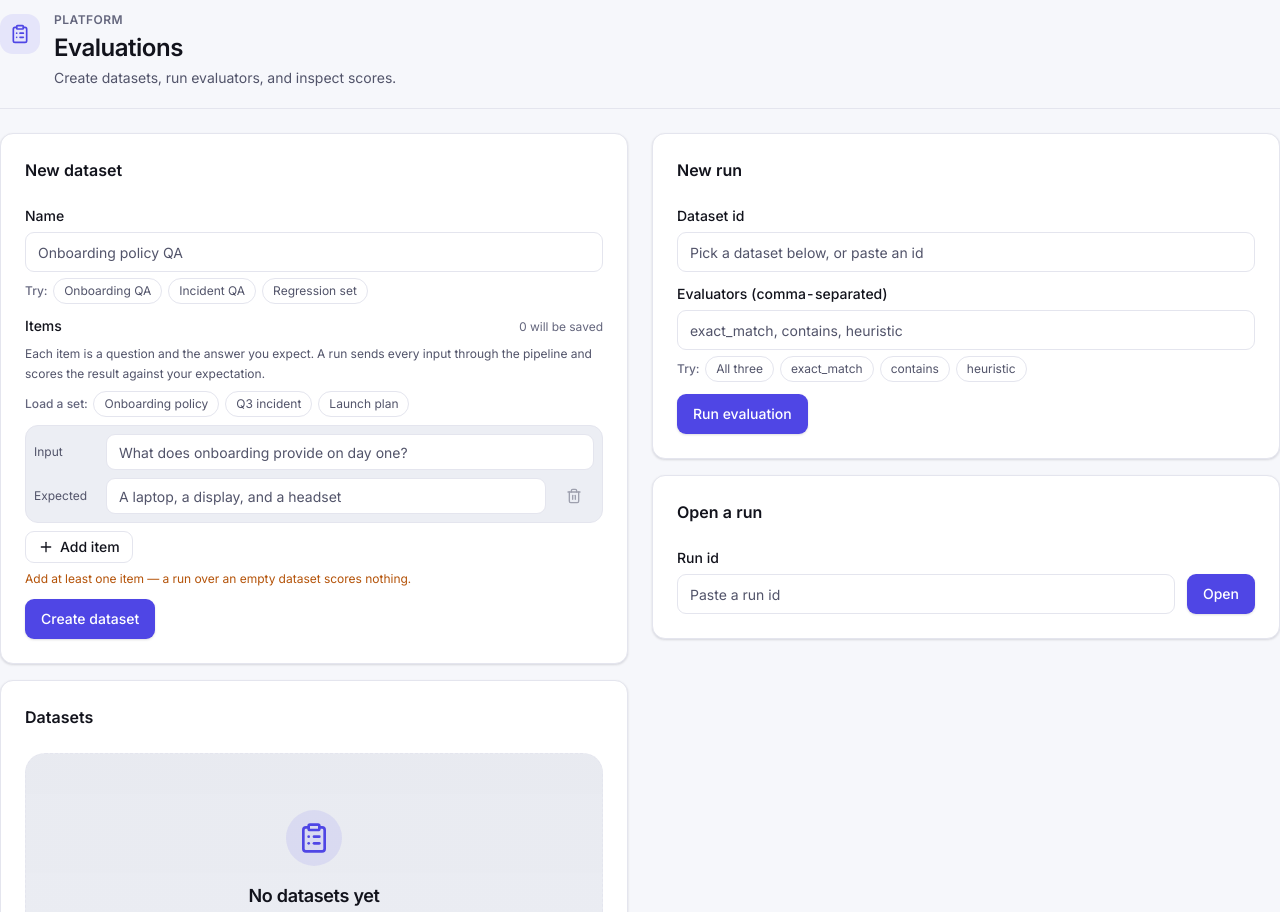
Test: EvaluationsView (MSW) › creates a dataset and shows the returned id (14.1)
Step 1. Type "regression" into the field with test id "dataset-name" → (314, 252), box [25,232,603,272]
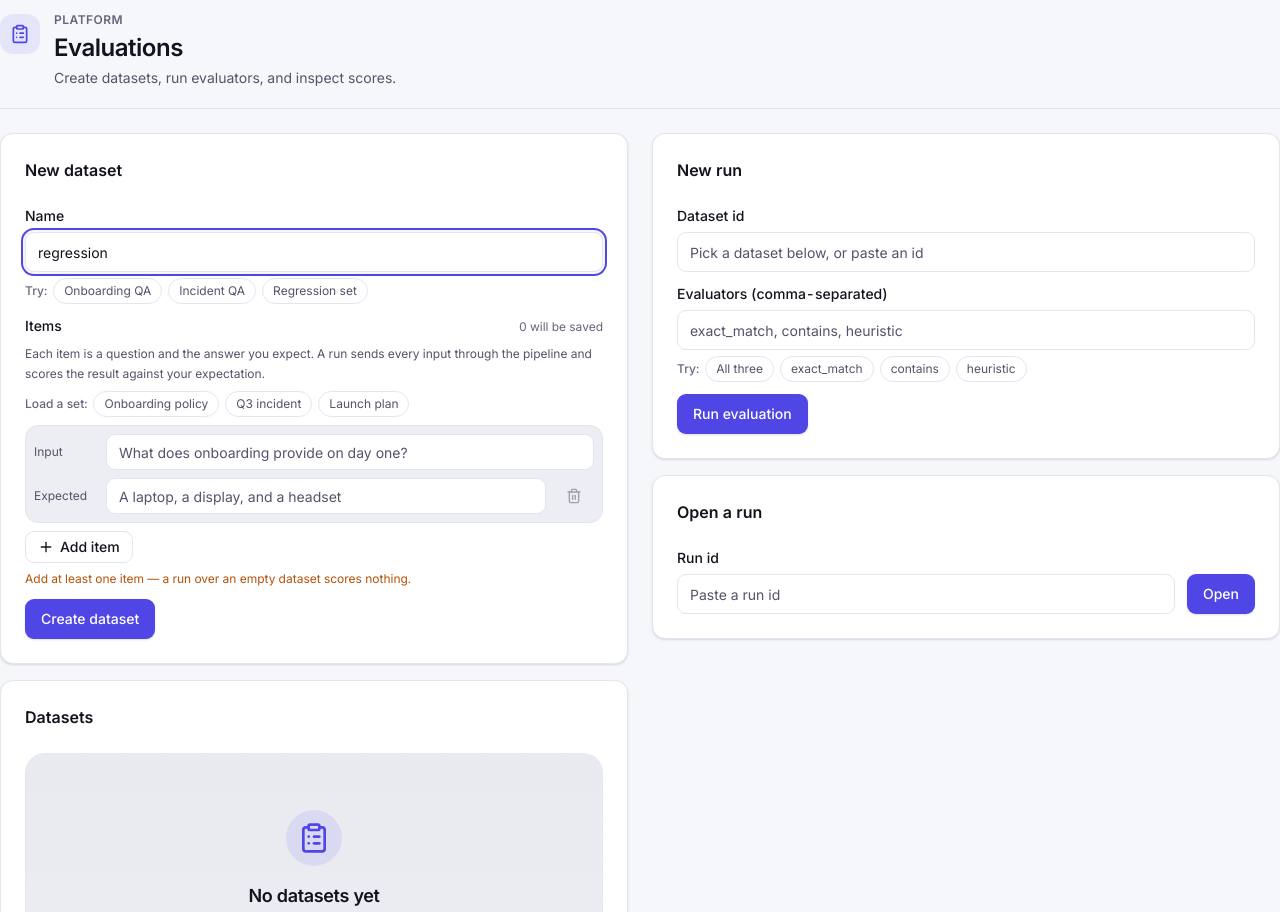
Step 2. Click the button with test id "create-dataset-submit" → (90, 619), box [25,599,155,639]
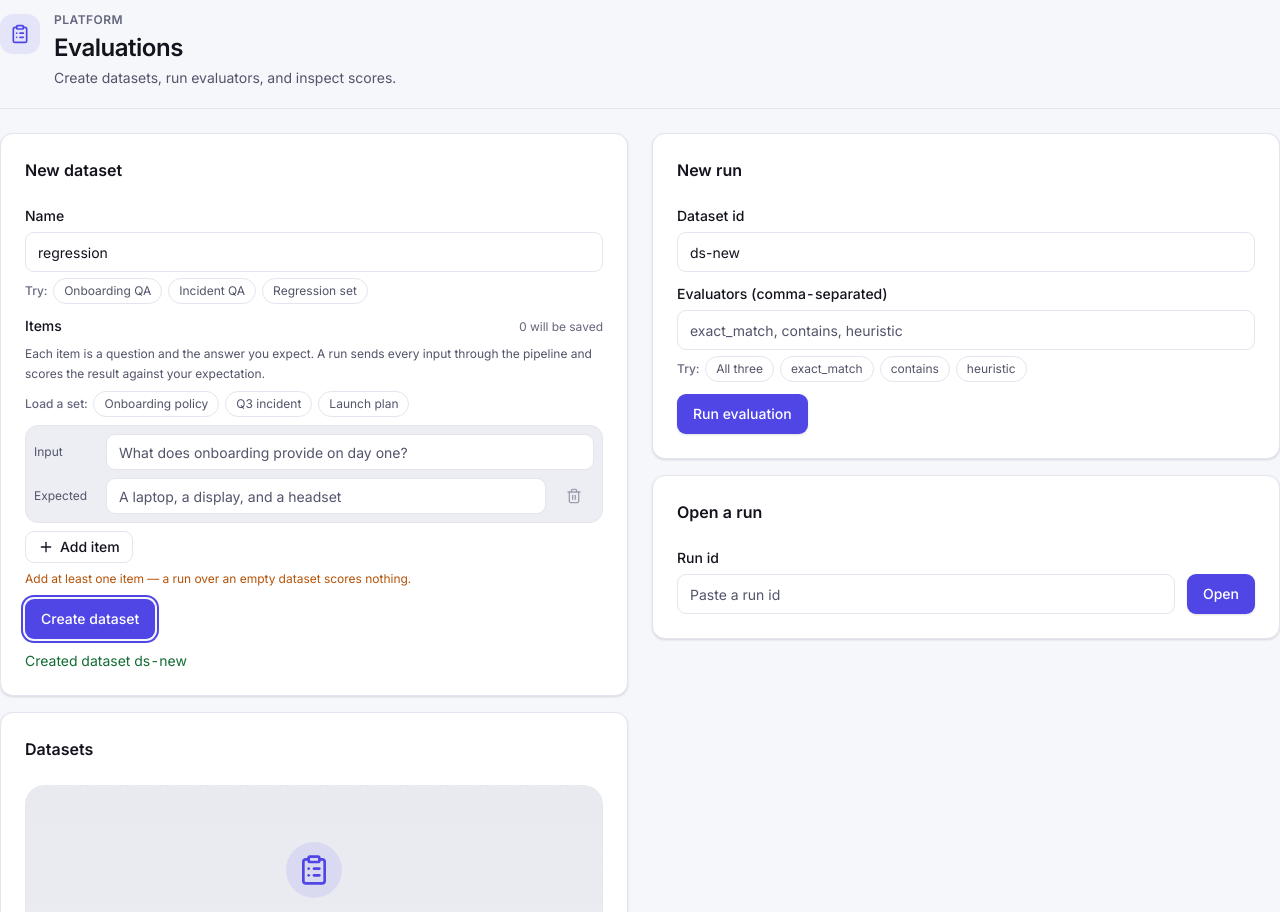
Check: the text with test id "create-dataset-result" shows "ds-new", box [134,652,187,669]
